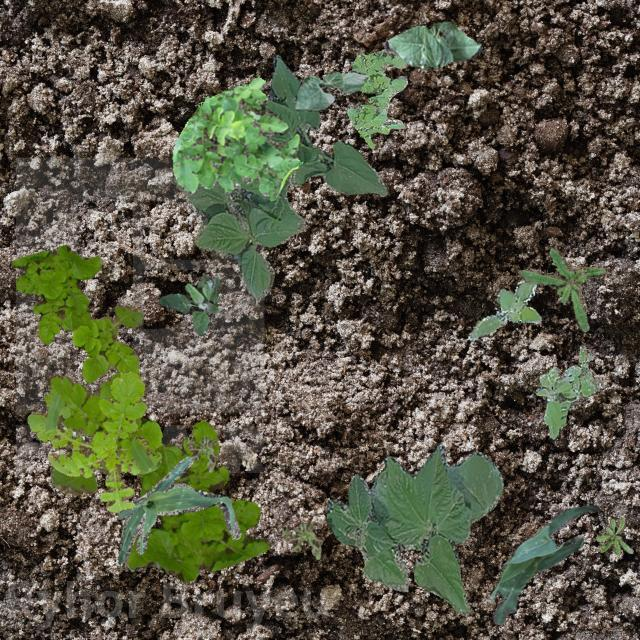crop: (170, 53, 386, 304), (326, 442, 502, 614), (116, 456, 240, 566), (488, 504, 598, 624), (382, 21, 480, 68), (294, 70, 368, 110)
weed: (48, 370, 270, 582), (26, 370, 160, 512), (10, 244, 142, 380), (172, 76, 302, 200), (518, 247, 604, 331), (534, 344, 602, 438), (346, 49, 408, 148), (466, 278, 540, 339), (158, 274, 220, 334), (280, 520, 322, 558), (596, 518, 632, 554), (185, 434, 218, 472), (60, 420, 84, 440)
